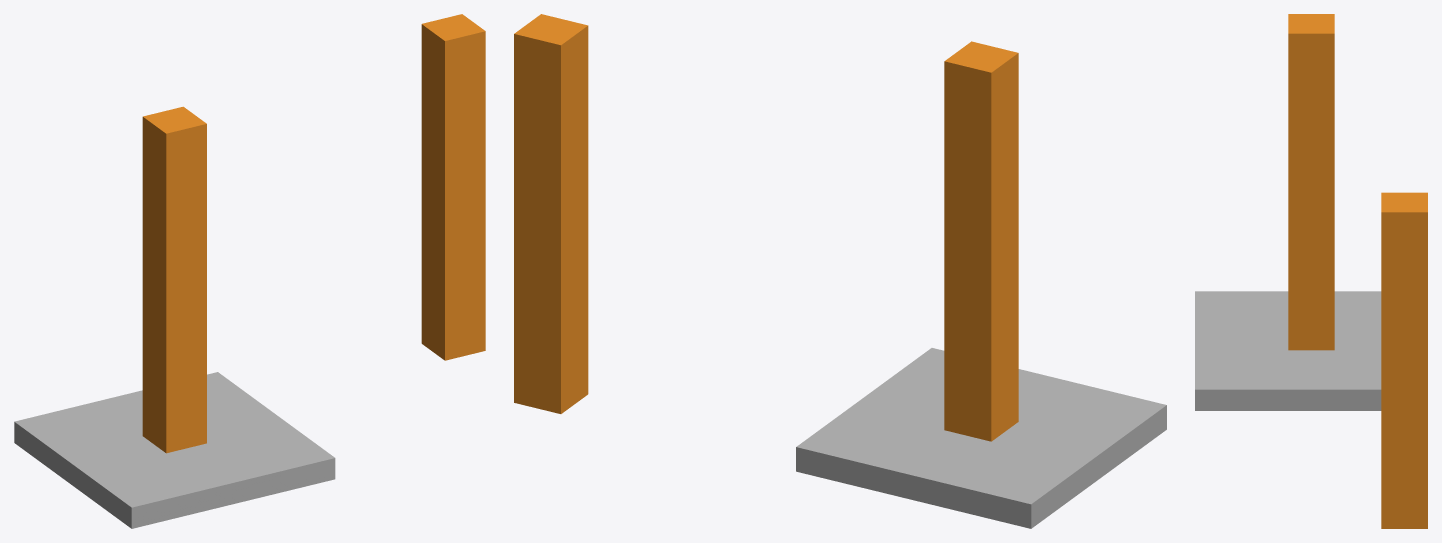
The model's file is two-blocks.gltf.
3 renders of one model, left to right at view 1: azimuth 30°, elevation 25°; view 2: azimuth 150°, elevation 25°; view 3: azimuth 270°, elevation 25°, orthographic. The views are drawn at different scales.
Parts seen in each view (by area): view 1: Base, Post, Marker; view 2: Base, Post, Marker; view 3: Base, Post, Marker.
Boxes of the visible parts, <box> form: Base: <box>14,372,335,528</box>; Post: <box>142,106,206,453</box>; Marker: <box>421,14,485,360</box>; Base: <box>796,348,1166,528</box>; Post: <box>944,41,1018,441</box>; Marker: <box>514,14,588,413</box>; Base: <box>1195,291,1381,410</box>; Post: <box>1288,14,1334,350</box>; Marker: <box>1381,192,1427,528</box>.
Size of the model in its own units: 0.22 by 0.16 by 0.1.
